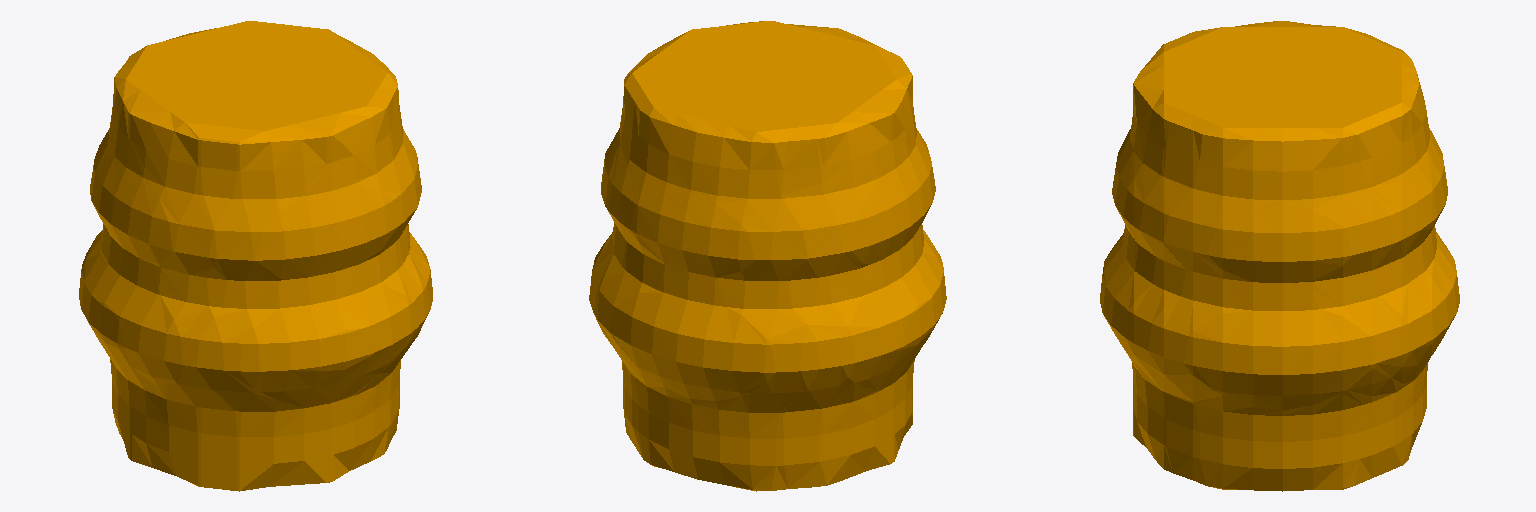
robot.urdf — cylinder_../../meshes/cylinders/cylinder_99.stl:
<?xml version="1.0" encoding="utf-8"?>  <robot name="cylinder_../../meshes/cylinders/cylinder_99.stl">   <link name="cylinder_../../meshes/cylinders/cylinder_99.stl">     <visual>       <geometry>         <mesh filename="../meshes/cylinders/cylinder_99.stl" scale="1 1 1"/>       </geometry>     </visual>     <collision>       <geometry>         <mesh filename="../meshes/cylinders/cylinder_99.stl" scale="1 1 1"/>       </geometry>     </collision>     <inertial>        <origin         xyz="0 0 0"         rpy="0 0 0" />       <mass value="0.14547015474605057"/>       <origin rpy="0 0 0" xyz="0 0 0"/>       <inertia ixx="7.397505668112486e-05" ixy="-1.8131242708898804e-08" ixz="-3.4844037144675596e-08" iyy="7.397641595725055e-05" iyz="-2.9565215644888415e-08" izz="5.150158690714445e-05"/>     </inertial>   </link>  </robot>

--- What the picture shows (computed from the rendered views, not written in the file) ---
Views: 3 orthographic renders of the robot side by side, from view 1: azimuth 30°, elevation 25°; view 2: azimuth 150°, elevation 25°; view 3: azimuth 270°, elevation 25°.
Robot: cylinder_../../meshes/cylinders/cylinder_99.stl — 1 links, 0 joints (none); root link cylinder_../../meshes/cylinders/cylinder_99.stl; default pose: every joint at zero.
Links seen in each view (by area): view 1: cylinder_../../meshes/cylinders/cylinder_99.stl; view 2: cylinder_../../meshes/cylinders/cylinder_99.stl; view 3: cylinder_../../meshes/cylinders/cylinder_99.stl.
Link boxes in pixels (left/top/right/bottom): cylinder_../../meshes/cylinders/cylinder_99.stl: left=79, top=21, right=432, bottom=491; cylinder_../../meshes/cylinders/cylinder_99.stl: left=589, top=21, right=946, bottom=491; cylinder_../../meshes/cylinders/cylinder_99.stl: left=1100, top=21, right=1459, bottom=491.
Size in the robot's own frame: 0.0604 by 0.0604 by 0.0669 metres.
1 mesh visuals loaded from 1 distinct referenced files (1 binary STL).